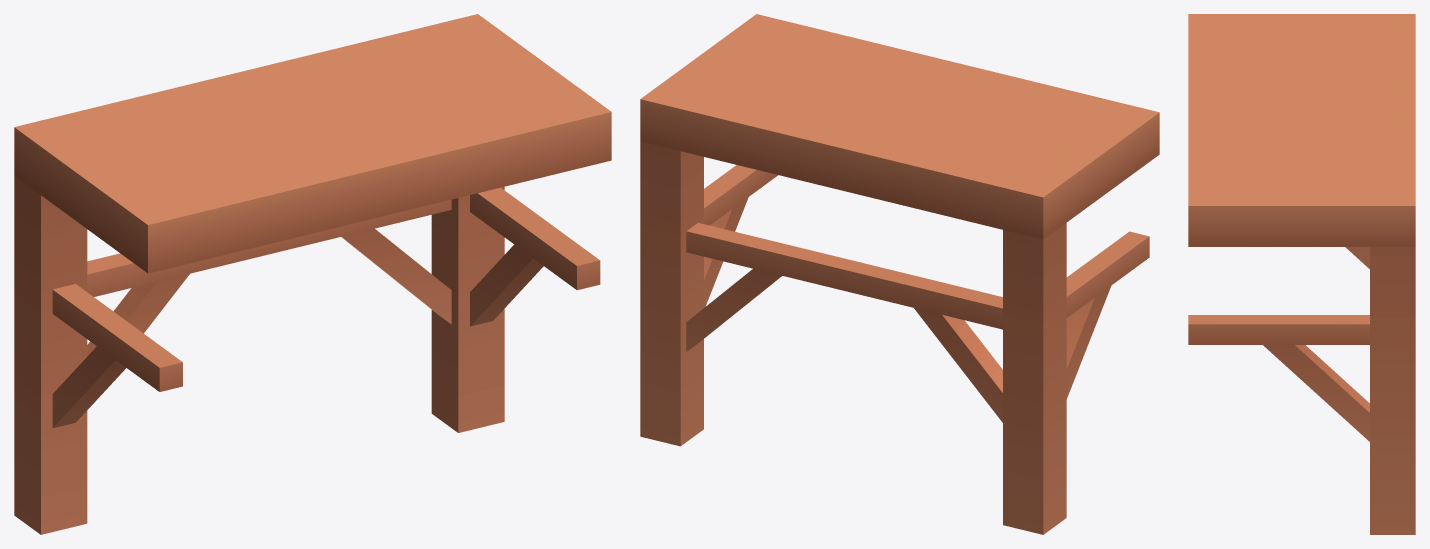
File: structure-platform-transformed.glb
3 renders of one model, left to right at view 1: azimuth 30°, elevation 25°; view 2: azimuth 150°, elevation 25°; view 3: azimuth 270°, elevation 25°, orthographic. The views are drawn at different scales.
Visible parts, largest first — view 1: structure-platform; view 2: structure-platform; view 3: structure-platform.
Part boxes in pixels (box(x1,y1,x2,y2)): structure-platform: box(14, 14, 611, 534); structure-platform: box(640, 14, 1159, 534); structure-platform: box(1188, 14, 1415, 534).
Size of the model in its own units: 1 by 0.8 by 0.5.
1 material, 1 textured.
